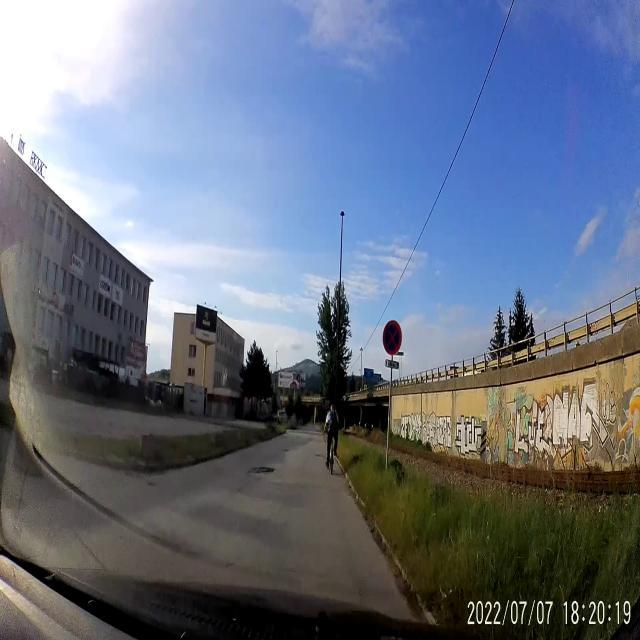Pothole: (251, 461, 276, 479), (146, 479, 159, 488), (314, 450, 325, 460), (282, 446, 292, 454)
